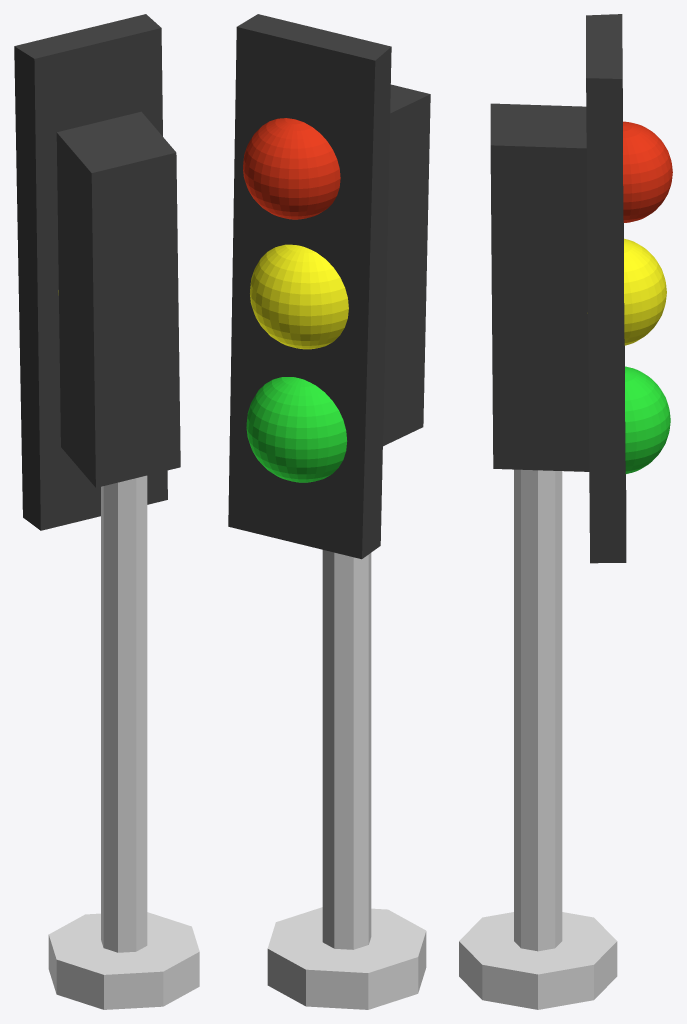
The model's file is trafficLight.fbx.
3 renders of one model, left to right at view 1: azimuth 30°, elevation 25°; view 2: azimuth 150°, elevation 25°; view 3: azimuth 270°, elevation 25°, orthographic. The views are drawn at different scales.
Visible parts, largest first — view 1: Cube, Circle; view 2: Cube, Circle, Sphere, Sphere.001, Sphere.002; view 3: Cube, Circle, Sphere.002, Sphere, Sphere.001.
Part boxes in pixels (left/top/right/bottom): Cube: left=14, top=14, right=180, bottom=530; Circle: left=48, top=475, right=199, bottom=1009; Cube: left=228, top=14, right=430, bottom=559; Circle: left=267, top=550, right=426, bottom=1009; Sphere: left=246, top=377, right=347, bottom=482; Sphere.001: left=250, top=244, right=348, bottom=349; Sphere.002: left=243, top=118, right=340, bottom=219; Cube: left=490, top=14, right=626, bottom=563; Circle: left=459, top=469, right=617, bottom=1009; Sphere.002: left=623, top=121, right=672, bottom=222; Sphere: left=625, top=366, right=670, bottom=473; Sphere.001: left=587, top=238, right=666, bottom=345.
Bounding box in the file's own units: 293 × 1862 × 389.
